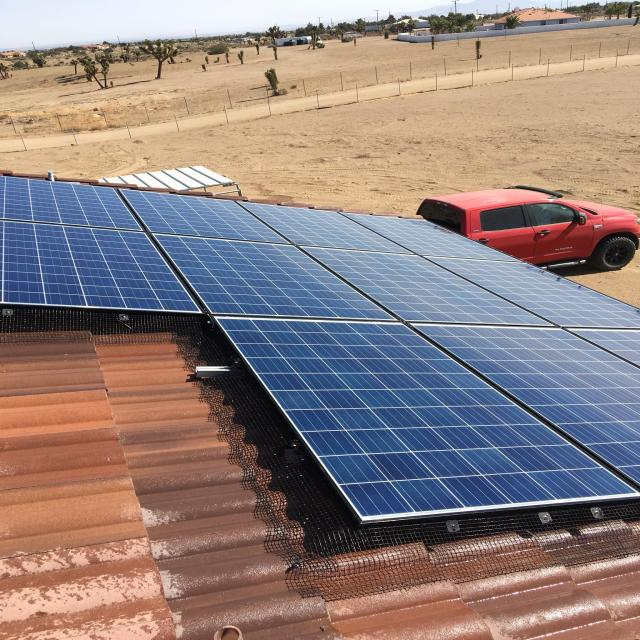clean-solar-panel: (0, 178, 638, 522)
